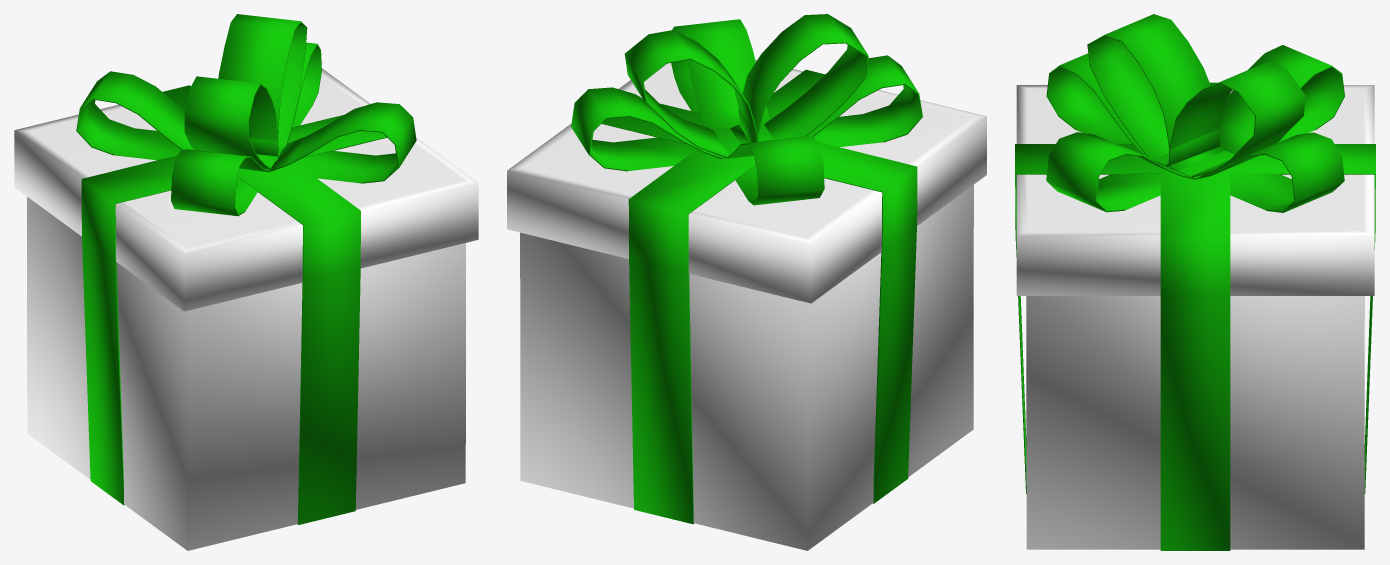
Rendered from present2.fbx.
The picture shows the model from 3 angles, left to right: view 1: azimuth 30°, elevation 25°; view 2: azimuth 150°, elevation 25°; view 3: azimuth 270°, elevation 25°; orthographic projection. The views are drawn at different scales.
Parts seen in each view (by area): view 1: present.001; view 2: present.001; view 3: present.001.
Boxes of the visible parts, bbox=[...] form: present.001: bbox=[14, 14, 478, 550]; present.001: bbox=[507, 14, 986, 550]; present.001: bbox=[1015, 14, 1375, 550].
Size of the model in its own units: 215 by 281 by 215.
1 material, 1 textured.
